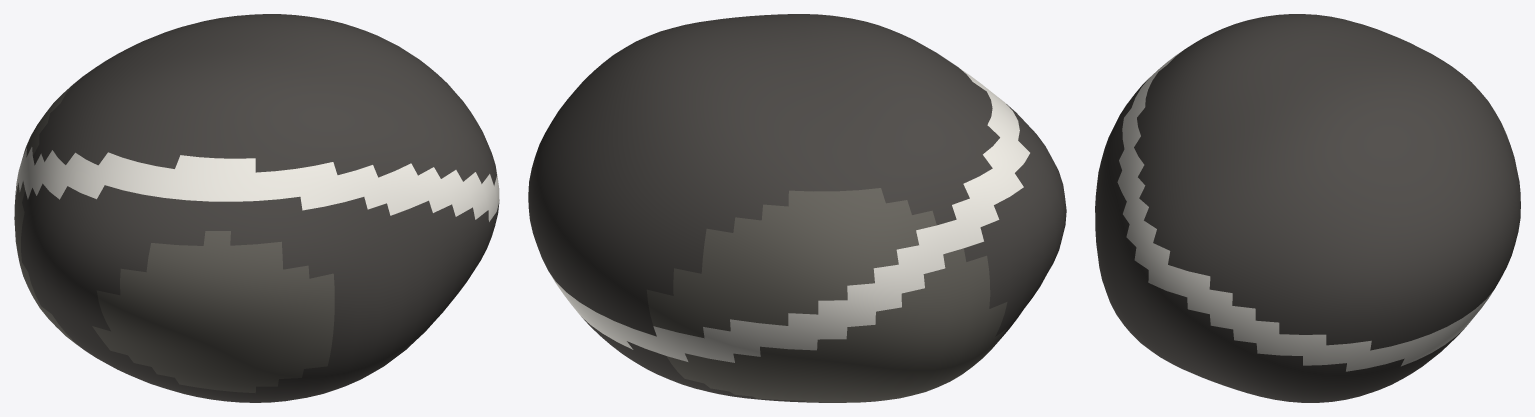
The model's file is Stone_10_Vein.fbx.
The picture shows the model from 3 angles, left to right: view 1: azimuth 30°, elevation 25°; view 2: azimuth 150°, elevation 25°; view 3: azimuth 270°, elevation 25°; orthographic projection. The views are drawn at different scales.
Visible parts, largest first — view 1: Stone_10_Vein; view 2: Stone_10_Vein; view 3: Stone_10_Vein.
Boxes of the visible parts, left/top/right/bottom form: Stone_10_Vein: left=14, top=14, right=499, bottom=402; Stone_10_Vein: left=528, top=14, right=1066, bottom=402; Stone_10_Vein: left=1095, top=14, right=1520, bottom=402.
Size of the model in its own units: 0.0402 by 0.028 by 0.0341.
